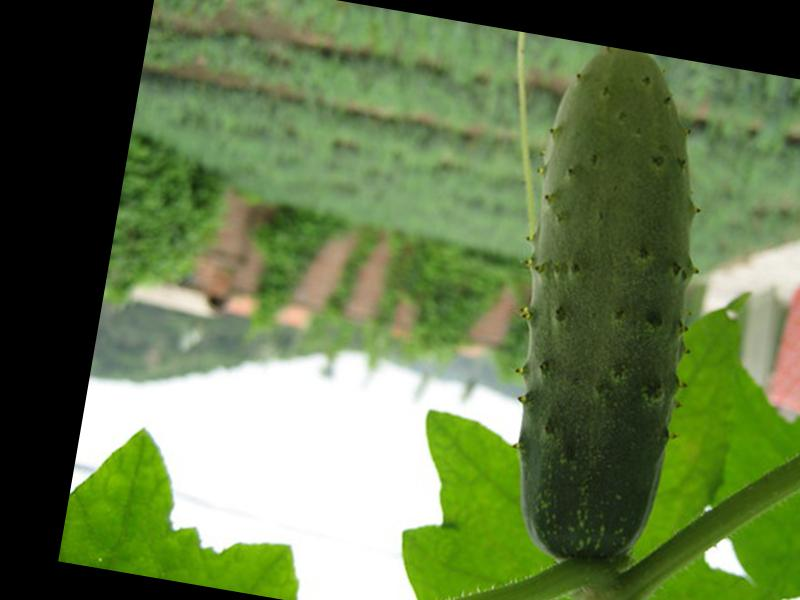Cucumber: (482, 40, 731, 573)
